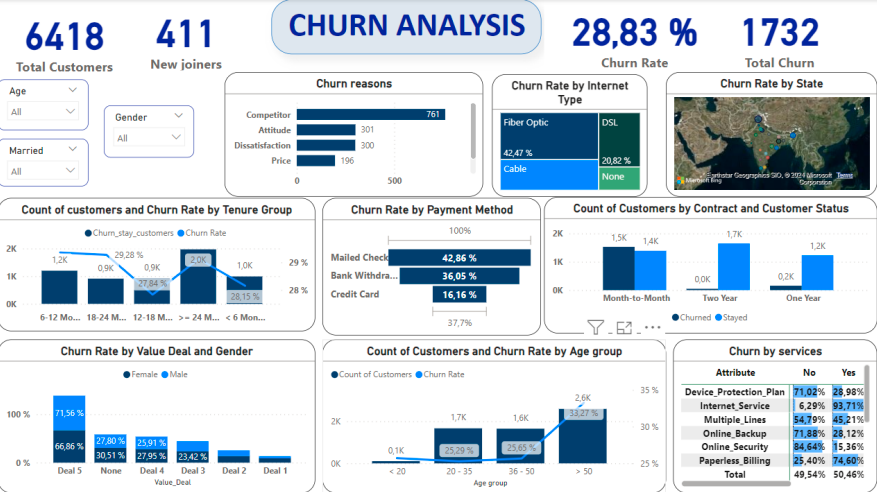

Layout of this report page (visuals, bound fields, positions):
{"tool":"powerbi","page":{"name":"Page 3","canvas":[1280,720],"ordinal":0},"visuals":[{"type":"textbox","box":[398.6,0,392.9,80],"z":0},{"type":"card","fields":{"Values":["my measures.Total Customers"]},"box":[0,0,193.3,116.7],"z":1000},{"type":"card","fields":{"Values":["my measures.Total Churn"]},"box":[1037.1,0,200,104.3],"z":2000},{"type":"card","fields":{"Values":["my measures.New joiners"]},"box":[171.7,0,205,108.3],"z":3000},{"type":"card","fields":{"Values":["my measures.Churn Rate"]},"box":[794.3,0,262.9,104.3],"z":4000},{"type":"slicer","fields":{"Values":["churn_stay.Age"]},"box":[0,116.6,131.7,74.2],"z":5000},{"type":"slicer","fields":{"Values":["churn_stay.Married"]},"box":[0,202.9,131.7,69.7],"z":6000},{"type":"funnel","title":"Churn Rate by Payment Method","fields":{"Category":["churn_stay.Payment_Method"],"Y":["my measures.Churn Rate"]},"box":[472.4,289.2,318,199.9],"z":7000},{"type":"slicer","fields":{"Values":["churn_stay.Gender"]},"box":[154.3,154.3,131.4,75.7],"z":8000},{"type":"columnChart","title":"Churn Rate by Value Deal and Gender","fields":{"Category":["churn_stay.Value_Deal"],"Y":["my measures.Churn Rate"],"Series":["churn_stay.Gender"]},"box":[0,495.1,461.8,224.1],"z":9000},{"type":"clusteredColumnChart","title":"Count of Customers by Contract and Customer Status","fields":{"Category":["churn_stay.Contract"],"Y":["CountNonNull(churn_stay.Customer_ID)"],"Series":["churn_stay.Customer_Status"]},"box":[795,287.7,484.5,198.4],"z":10000},{"type":"lineStackedColumnComboChart","title":"Count of customers and Churn Rate by Tenure Group ","fields":{"Category":["mapping_TenureGrp.Tenure Group "],"Y":["my measures.Churn_stay_customers"],"Y2":["my measures.Churn Rate"]},"box":[0,289.2,461.8,193.8],"z":11000},{"type":"lineClusteredColumnComboChart","fields":{"Category":["mapping age groups.Age group"],"Y":["my measures.Churn_stay_customers"],"Y2":["my measures.Churn Rate"]},"box":[472.4,495.1,499.7,224.1],"z":12000},{"type":"map","title":"Churn Rate by State","fields":{"Category":["churn_stay.State"],"Series":["churn_stay.State"],"Size":["my measures.Churn Rate"]},"box":[972.9,105.7,307.1,181.4],"z":13000},{"type":"pivotTable","title":"Churn by services","fields":{"Rows":["services.Services"],"Columns":["services.Status"],"Values":["Sum(services.Churn Status)"]},"box":[982.7,495.1,296.8,224.1],"z":14000},{"type":"clusteredBarChart","title":"Churn reasons ","fields":{"Y":["CountNonNull(churn_stay.Churn_Category)"],"Category":["churn_stay.Churn_Category"]},"box":[330,105.7,375.7,181.4],"z":15000},{"type":"treemap","title":"Churn Rate by Internet Type","fields":{"Group":["churn_stay.Internet_Type"],"Values":["my measures.Churn Rate"]},"box":[720,108.6,225.7,178.6],"z":16000}]}

Visuals, with their boxes in screenshot pixels (x1, y1, x2, y2), scaled from the page's 1280x720 canvas onto the 877x492 screenshot:
textbox: [x1=273, y1=0, x2=542, y2=55]
card - my measures.Total Customers: [x1=0, y1=0, x2=132, y2=80]
card - my measures.Total Churn: [x1=711, y1=0, x2=848, y2=71]
card - my measures.New joiners: [x1=118, y1=0, x2=258, y2=74]
card - my measures.Churn Rate: [x1=544, y1=0, x2=724, y2=71]
slicer - churn_stay.Age: [x1=0, y1=80, x2=90, y2=130]
slicer - churn_stay.Married: [x1=0, y1=139, x2=90, y2=186]
"Churn Rate by Payment Method" funnel: [x1=324, y1=198, x2=542, y2=334]
slicer - churn_stay.Gender: [x1=106, y1=105, x2=196, y2=157]
"Churn Rate by Value Deal and Gender" columnChart: [x1=0, y1=338, x2=316, y2=491]
"Count of Customers by Contract and Customer Status" clusteredColumnChart: [x1=545, y1=197, x2=876, y2=332]
"Count of customers and Churn Rate by Tenure Group " lineStackedColumnComboChart: [x1=0, y1=198, x2=316, y2=330]
lineClusteredColumnComboChart - mapping age groups.Age group x my measures.Churn_stay_customers: [x1=324, y1=338, x2=666, y2=491]
"Churn Rate by State" map: [x1=667, y1=72, x2=876, y2=196]
"Churn by services" pivotTable: [x1=673, y1=338, x2=876, y2=491]
"Churn reasons " clusteredBarChart: [x1=226, y1=72, x2=484, y2=196]
"Churn Rate by Internet Type" treemap: [x1=493, y1=74, x2=648, y2=196]
